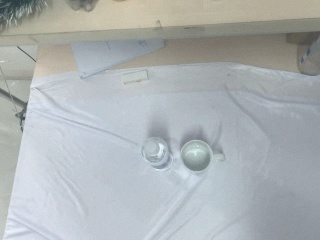bottle: (141, 136, 173, 172)
box: (296, 30, 320, 76)
cup: (180, 139, 225, 173)
